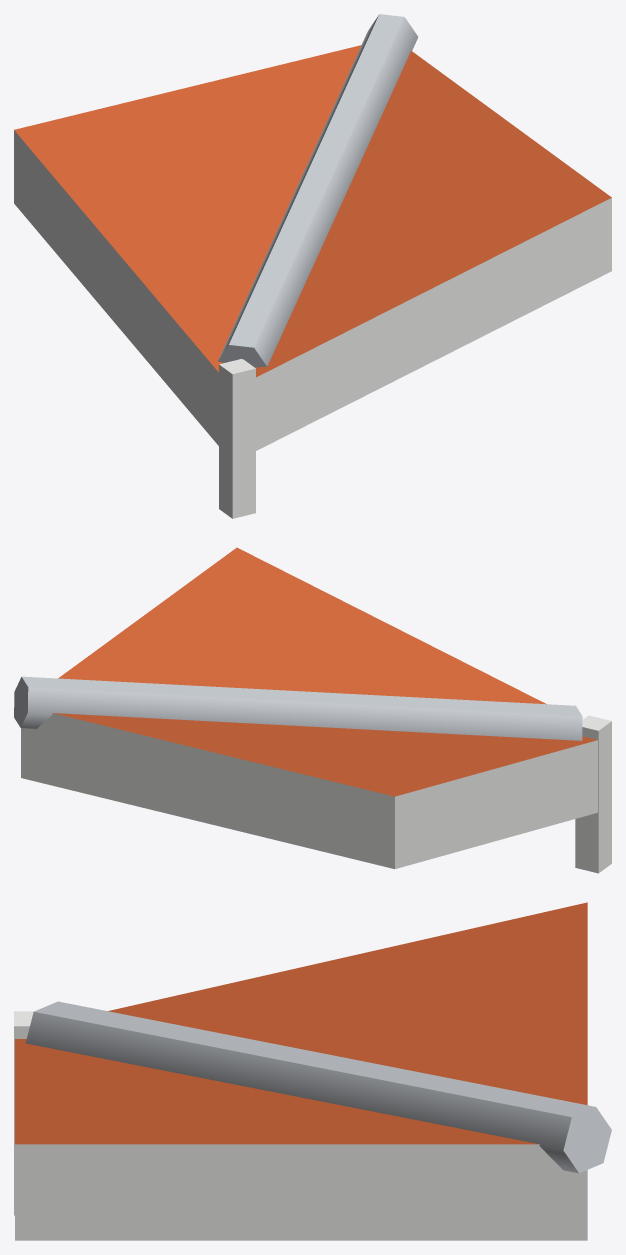
Rendered from telhado_beiral_canto_interno_i25.glb.
3 views of the same model, one above another, from view 1: azimuth 30°, elevation 25°; view 2: azimuth 150°, elevation 25°; view 3: azimuth 270°, elevation 25° (orthographic). The views are drawn at different scales.
Visible parts, largest first — view 1: telhado_beiral_canto_interno_i25; view 2: telhado_beiral_canto_interno_i25; view 3: telhado_beiral_canto_interno_i25.
Boxes of the visible parts, x1,y1,x2,y2 form: telhado_beiral_canto_interno_i25: (14,14,611,518); telhado_beiral_canto_interno_i25: (14,547,611,873); telhado_beiral_canto_interno_i25: (14,902,611,1240).
Bounding box in the file's own units: 0.5222 × 0.3174 × 0.5222.
Materials: 3 (1 with a texture image).
